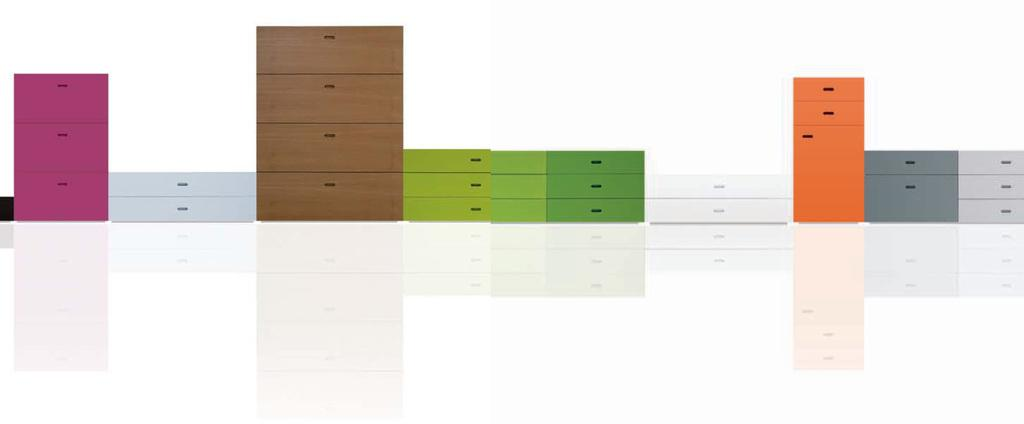cabinet_door: (262, 168, 402, 218), (798, 122, 866, 220), (259, 122, 399, 169), (262, 74, 402, 120), (259, 28, 401, 73), (18, 74, 110, 122), (28, 122, 102, 172), (20, 174, 102, 219), (492, 172, 634, 197), (654, 198, 788, 224), (114, 174, 252, 199), (652, 175, 786, 200), (492, 150, 643, 172), (886, 176, 958, 222), (495, 200, 636, 220), (116, 202, 250, 222), (872, 148, 950, 175), (401, 148, 487, 171), (402, 198, 488, 218), (404, 174, 486, 194), (962, 148, 1024, 174), (963, 176, 1024, 200), (968, 200, 1024, 226), (797, 100, 860, 122), (800, 78, 858, 100)
handle: (584, 204, 610, 217), (46, 80, 76, 89), (54, 178, 76, 190), (318, 128, 340, 140), (702, 182, 730, 191), (904, 154, 922, 168), (996, 182, 1014, 196), (466, 177, 486, 189), (172, 181, 194, 191), (322, 79, 340, 91), (54, 129, 68, 143), (900, 182, 918, 192), (710, 208, 732, 216), (468, 155, 487, 164), (466, 205, 484, 214), (586, 182, 604, 191), (822, 86, 840, 95), (798, 132, 818, 140), (998, 157, 1012, 168), (999, 207, 1015, 216), (820, 109, 836, 117), (320, 181, 338, 188), (318, 34, 338, 40), (176, 206, 190, 214), (590, 159, 604, 166)
